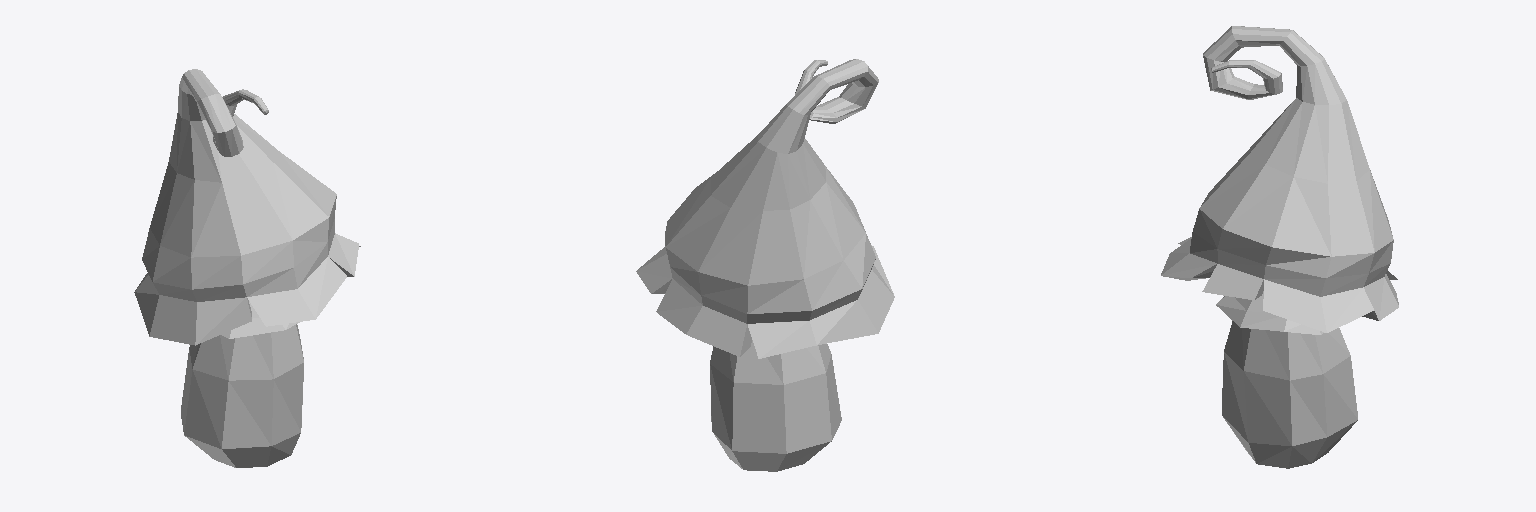
Rendered from Mushroom_Orange_1.obj.
3 views of the same model, side by side, from view 1: azimuth 30°, elevation 25°; view 2: azimuth 150°, elevation 25°; view 3: azimuth 270°, elevation 25° (orthographic).
Visible parts, largest first — view 1: PP_Mushroom_Fantasy_Orange_09.002; view 2: PP_Mushroom_Fantasy_Orange_09.002; view 3: PP_Mushroom_Fantasy_Orange_09.002.
Boxes of the visible parts, <box> form: PP_Mushroom_Fantasy_Orange_09.002: <box>134,69,360,467</box>; PP_Mushroom_Fantasy_Orange_09.002: <box>636,59,894,471</box>; PP_Mushroom_Fantasy_Orange_09.002: <box>1161,26,1398,468</box>.
Bounding box in the file's own units: 0.2123 × 0.3673 × 0.2024.